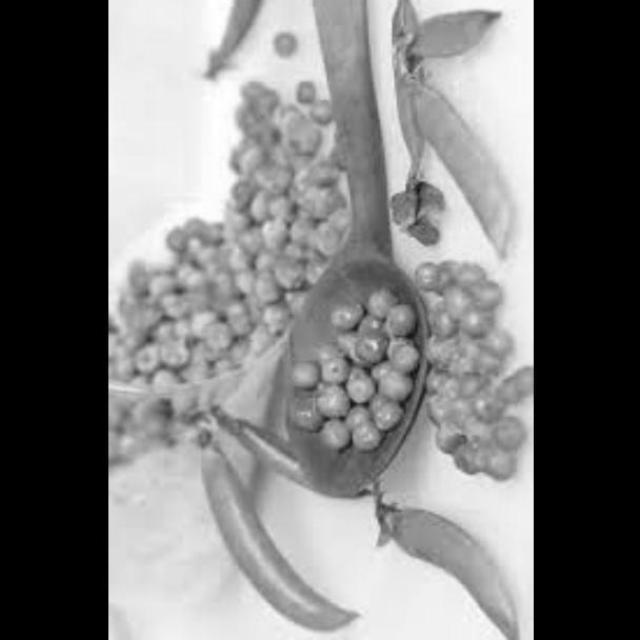dau Ha Lan: (107, 78, 346, 448), (172, 426, 348, 628), (408, 220, 531, 482), (372, 1, 494, 233), (365, 494, 530, 634), (279, 285, 405, 454), (182, 1, 275, 90), (273, 31, 304, 57)
